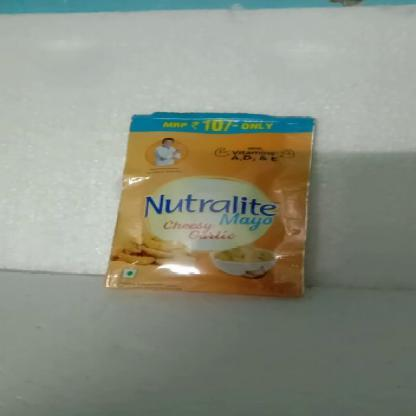Nutralite CHEESY GARLIC MAYO 30g: (129, 114, 314, 294)
